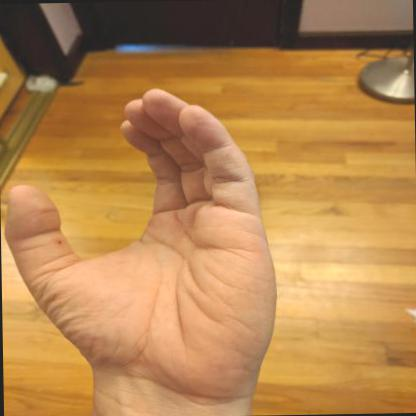C: (4, 88, 276, 413)
